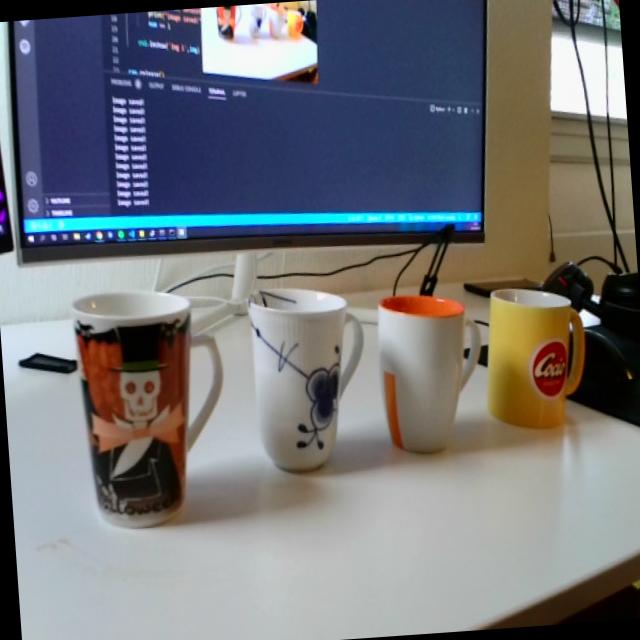Cocio Cup: (480, 282, 593, 435)
Halloween cup: (69, 284, 238, 532)
Hand painted cup: (245, 280, 372, 475)
White Cup: (374, 290, 485, 458)
